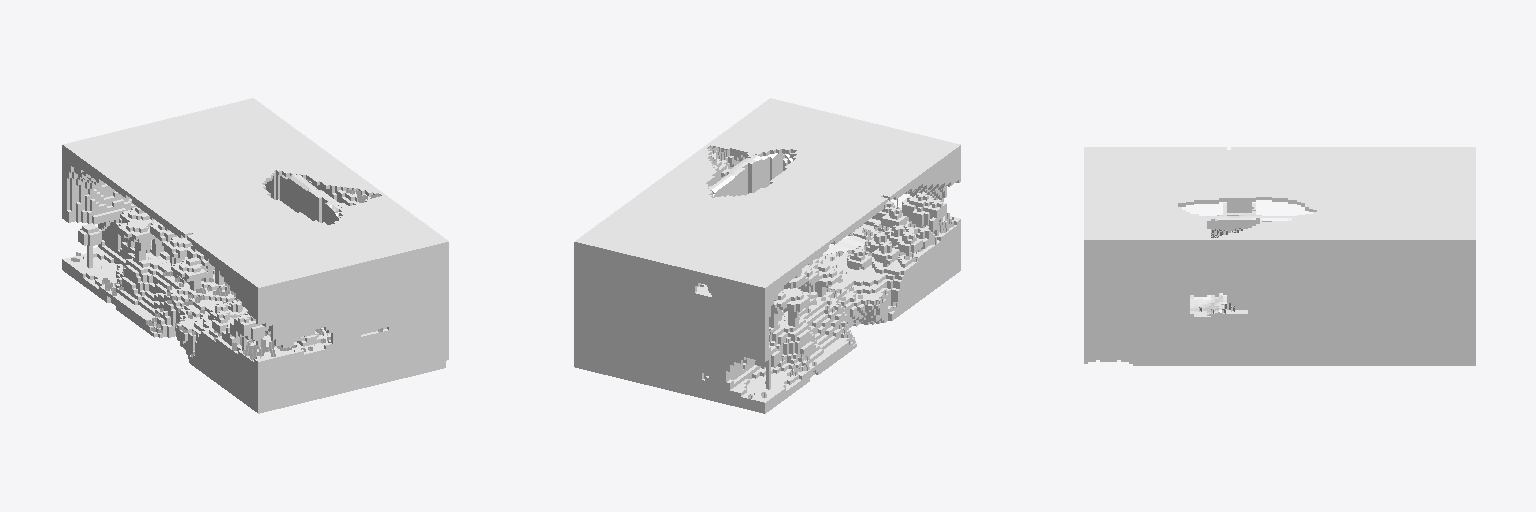
3 views of the same model, side by side, from view 1: azimuth 30°, elevation 25°; view 2: azimuth 150°, elevation 25°; view 3: azimuth 270°, elevation 25° (orthographic).
Visible parts, largest first — view 1: Floral_Caves_Hunt__-41_66_-160_to_12_99_-65; view 2: Floral_Caves_Hunt__-41_66_-160_to_12_99_-65; view 3: Floral_Caves_Hunt__-41_66_-160_to_12_99_-65.
Boxes of the visible parts, x1,y1,x2,y2 form: Floral_Caves_Hunt__-41_66_-160_to_12_99_-65: [62, 98, 448, 413]; Floral_Caves_Hunt__-41_66_-160_to_12_99_-65: [574, 98, 960, 413]; Floral_Caves_Hunt__-41_66_-160_to_12_99_-65: [1084, 147, 1475, 365].
Bounding box in the file's own units: 54.24 × 34 × 96.12.